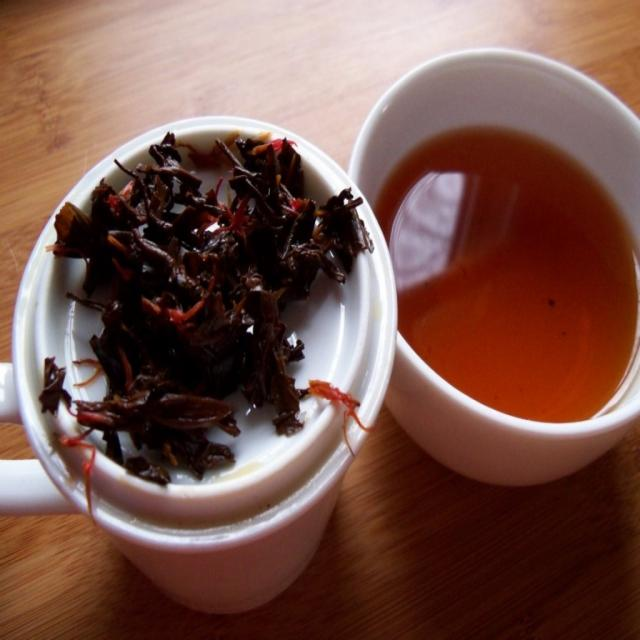Tea: (372, 131, 639, 420)
